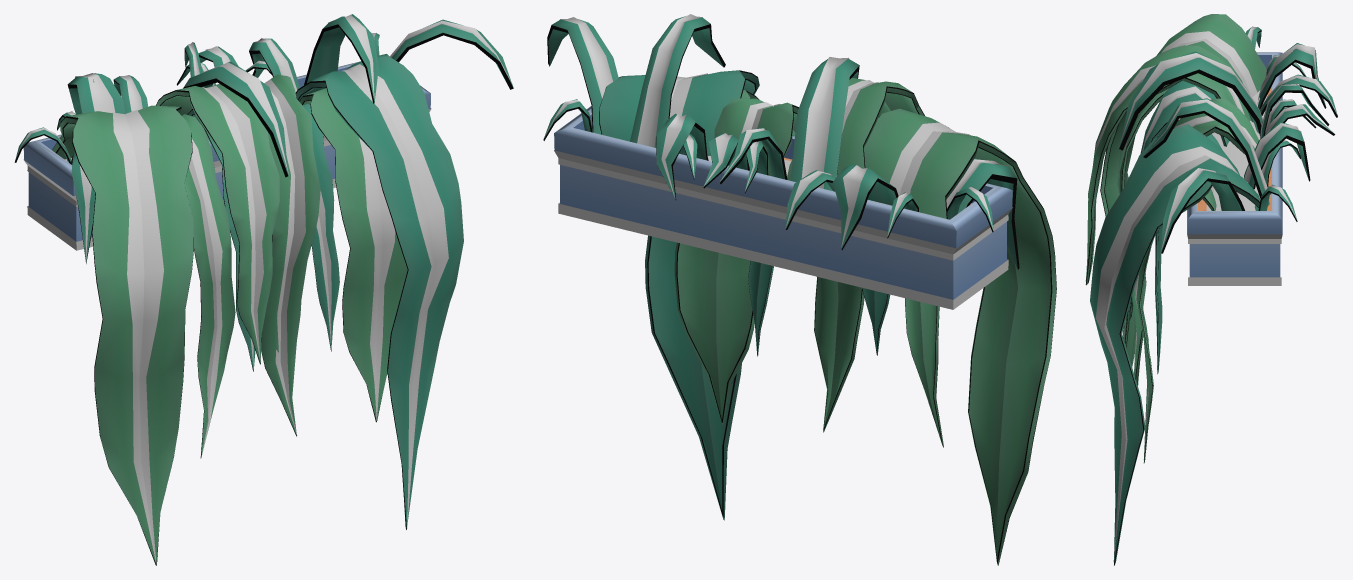
The model's file is Rooms_Paradise_LargeFlowerPot_03_Art.fbx.
The picture shows the model from 3 angles, left to right: view 1: azimuth 30°, elevation 25°; view 2: azimuth 150°, elevation 25°; view 3: azimuth 270°, elevation 25°; orthographic projection. The views are drawn at different scales.
Parts seen in each view (by area): view 1: Rooms_Paradise_LargeFlowerPot_03_sheets, Rooms_Paradise_LargeFlowerPot_03_Art, Rooms_Paradise_LargeFlowerPot_03_Shadows; view 2: Rooms_Paradise_LargeFlowerPot_03_sheets, Rooms_Paradise_LargeFlowerPot_03_Art, Rooms_Paradise_LargeFlowerPot_03_Shadows; view 3: Rooms_Paradise_LargeFlowerPot_03_sheets, Rooms_Paradise_LargeFlowerPot_03_Art, Rooms_Paradise_LargeFlowerPot_03_Shadows.
Part boxes in pixels (x1=…): Rooms_Paradise_LargeFlowerPot_03_sheets: x1=14, y1=14, x2=513, y2=565; Rooms_Paradise_LargeFlowerPot_03_Art: x1=23, y1=62, x2=430, y2=241; Rooms_Paradise_LargeFlowerPot_03_Shadows: x1=23, y1=108, x2=431, y2=250; Rooms_Paradise_LargeFlowerPot_03_sheets: x1=543, y1=14, x2=1056, y2=565; Rooms_Paradise_LargeFlowerPot_03_Art: x1=554, y1=106, x2=1012, y2=299; Rooms_Paradise_LargeFlowerPot_03_Shadows: x1=554, y1=149, x2=1012, y2=309; Rooms_Paradise_LargeFlowerPot_03_sheets: x1=1085, y1=14, x2=1337, y2=565; Rooms_Paradise_LargeFlowerPot_03_Art: x1=1187, y1=52, x2=1282, y2=277; Rooms_Paradise_LargeFlowerPot_03_Shadows: x1=1187, y1=90, x2=1282, y2=285.
Bounding box in the file's own units: 435 × 447 × 223.
